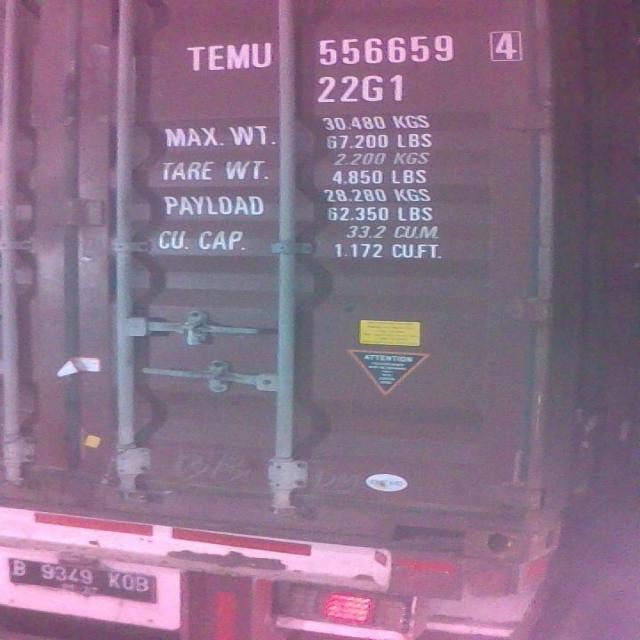seal: (178, 317, 205, 348)
